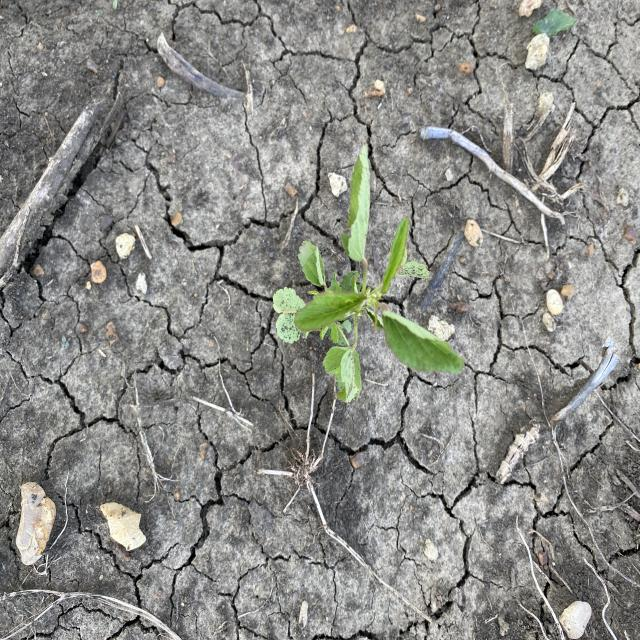PricklySida: (272, 144, 468, 405)
